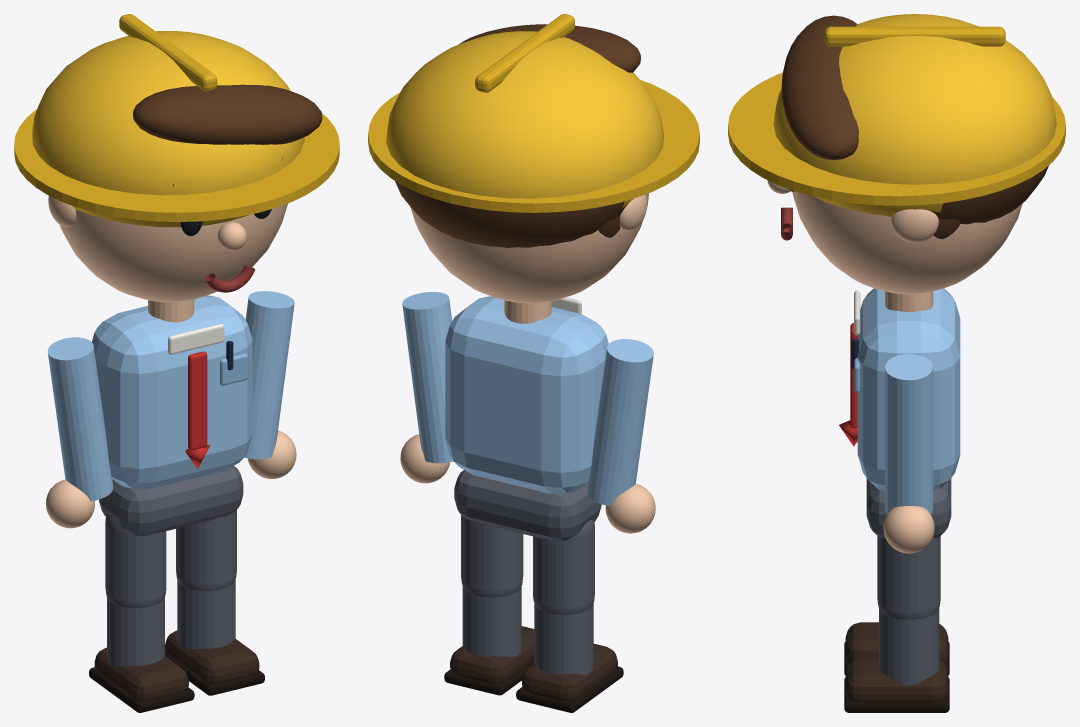
Rendered from oficinista.glb.
3 views of the same model, side by side, from view 1: azimuth 30°, elevation 25°; view 2: azimuth 150°, elevation 25°; view 3: azimuth 270°, elevation 25° (orthographic). The views are drawn at different scales.
Visible parts, largest first — view 1: casco, cabeza, Cube.001, brazo_i, rodilla_i, rodilla_d, brazo_d, Cube, pierna_i, pierna_d, Cube.003, Cube.002 (+3 smaller); view 2: casco, Cube.001, cabeza, brazo_i, rodilla_i, brazo_d, rodilla_d, Cube, pierna_i, pierna_d, Cylinder.001; view 3: casco, cabeza, Cube.001, brazo_d, rodilla_d, pierna_d, Cube, rodilla_i, Cylinder.001.
Part boxes in pixels (bbox=[...]): casco: bbox=[14, 14, 339, 227]; cabeza: bbox=[48, 84, 322, 302]; Cube.001: bbox=[92, 295, 252, 489]; brazo_i: bbox=[46, 337, 113, 528]; rodilla_i: bbox=[89, 597, 194, 712]; rodilla_d: bbox=[165, 579, 264, 695]; brazo_d: bbox=[244, 291, 296, 478]; Cube: bbox=[99, 466, 243, 535]; pierna_i: bbox=[105, 515, 166, 608]; pierna_d: bbox=[176, 510, 236, 591]; Cube.003: bbox=[188, 351, 207, 450]; Cube.002: bbox=[168, 323, 224, 354]; casco: bbox=[368, 14, 699, 212]; Cube.001: bbox=[445, 296, 608, 493]; cabeza: bbox=[395, 24, 648, 303]; brazo_i: bbox=[587, 339, 655, 533]; rodilla_i: bbox=[516, 603, 623, 712]; brazo_d: bbox=[400, 292, 453, 483]; rodilla_d: bbox=[444, 586, 534, 695]; Cube: bbox=[454, 470, 601, 541]; pierna_i: bbox=[533, 520, 594, 615]; pierna_d: bbox=[461, 515, 523, 597]; Cylinder.001: bbox=[504, 300, 551, 323]; casco: bbox=[728, 14, 1065, 217]; cabeza: bbox=[767, 15, 1048, 294]; Cube.001: bbox=[857, 288, 960, 490]; brazo_d: bbox=[883, 354, 934, 553]; rodilla_d: bbox=[844, 608, 949, 712]; pierna_d: bbox=[877, 536, 940, 619]; Cube: bbox=[866, 478, 951, 538]; rodilla_i: bbox=[844, 622, 949, 675]; Cylinder.001: bbox=[885, 291, 933, 311].
Size of the model in its own units: 1.12 by 2.39 by 1.12.
